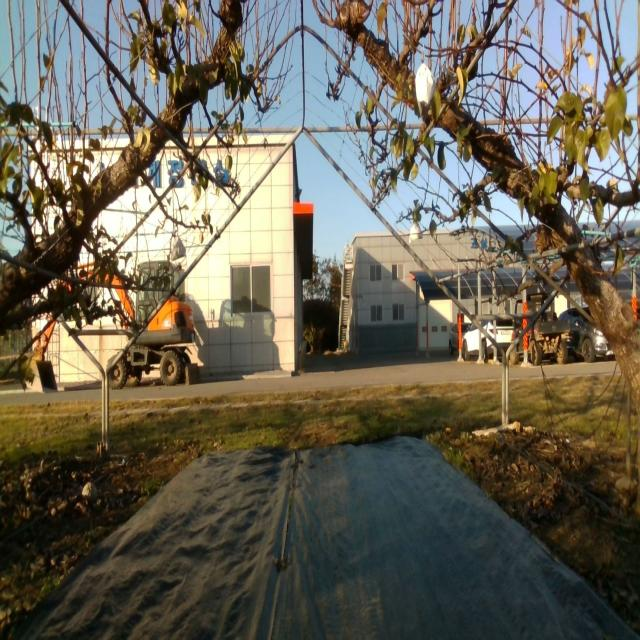pearbags: (415, 64, 437, 120), (171, 234, 186, 261), (408, 221, 423, 247)
